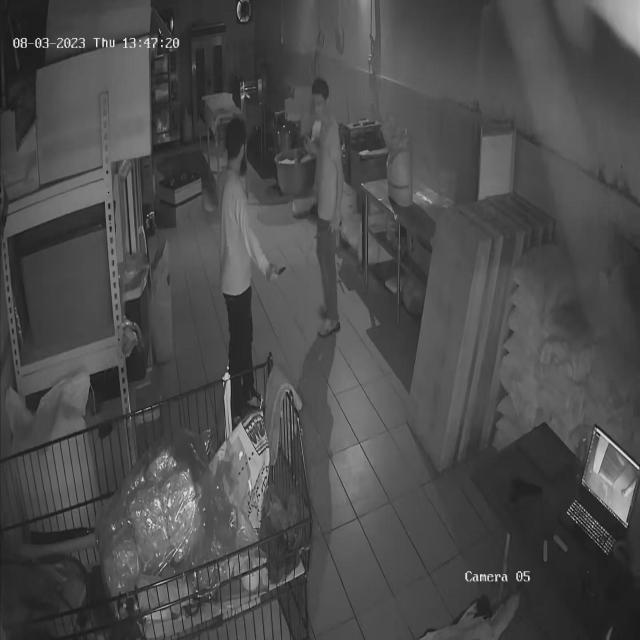Knife: (266, 252, 294, 291)
